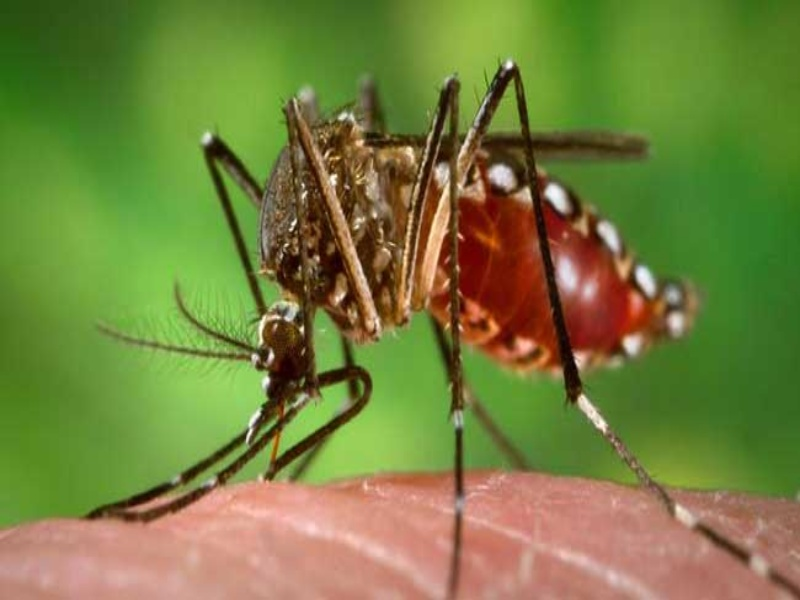dengue_mosquito: (241, 113, 647, 458)
